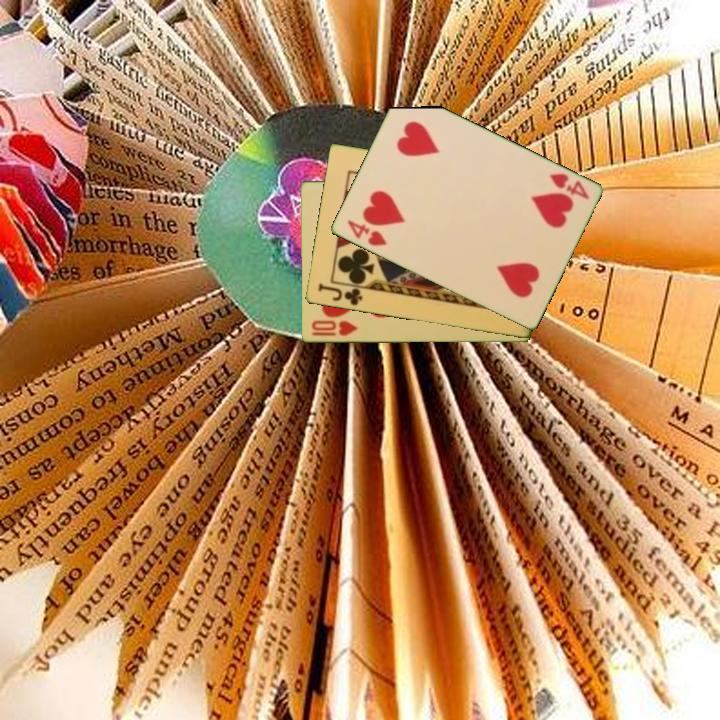10h: (308, 317, 360, 339)
4h: (343, 216, 390, 249), (545, 170, 592, 203)
Jc: (314, 280, 365, 309)
